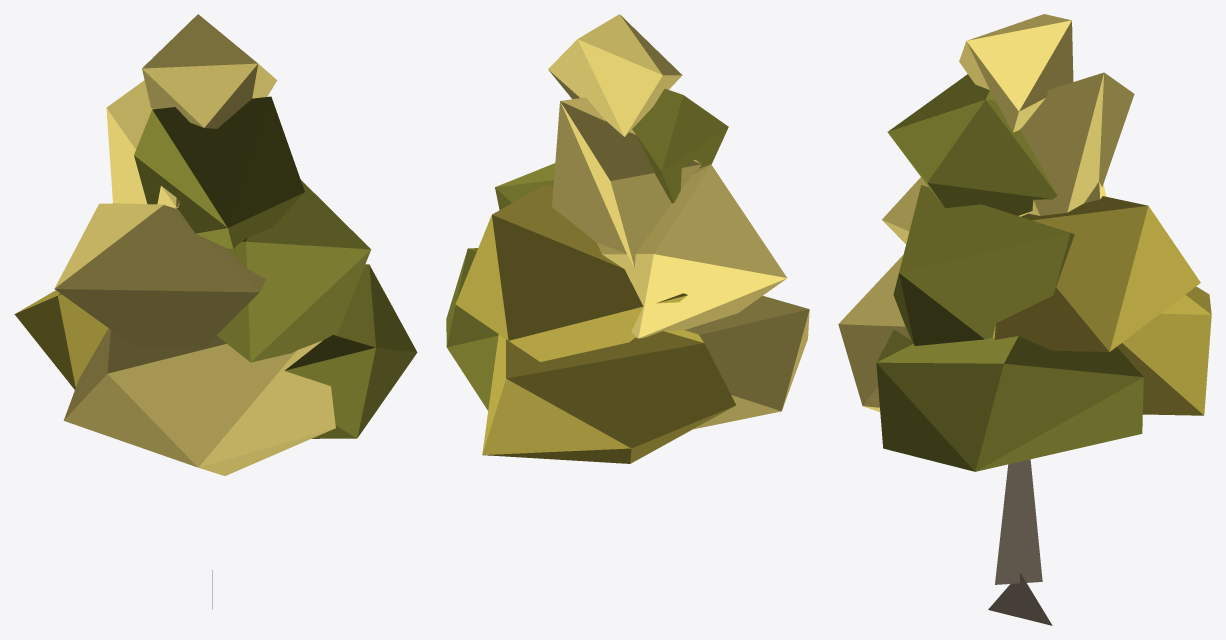
Rendered from tree_beech_4_lod2.glb.
3 views of the same model, side by side, from view 1: azimuth 30°, elevation 25°; view 2: azimuth 150°, elevation 25°; view 3: azimuth 270°, elevation 25° (orthographic). The views are drawn at different scales.
Parts seen in each view (by area): view 1: tree_beech_4_lod2; view 2: tree_beech_4_lod2; view 3: tree_beech_4_lod2.
Boxes of the visible parts, x1,y1,x2,y2 form: tree_beech_4_lod2: [14, 14, 417, 609]; tree_beech_4_lod2: [446, 14, 809, 463]; tree_beech_4_lod2: [838, 14, 1211, 625].
Bounding box in the file's own units: 6.29 × 9.99 × 5.61.
